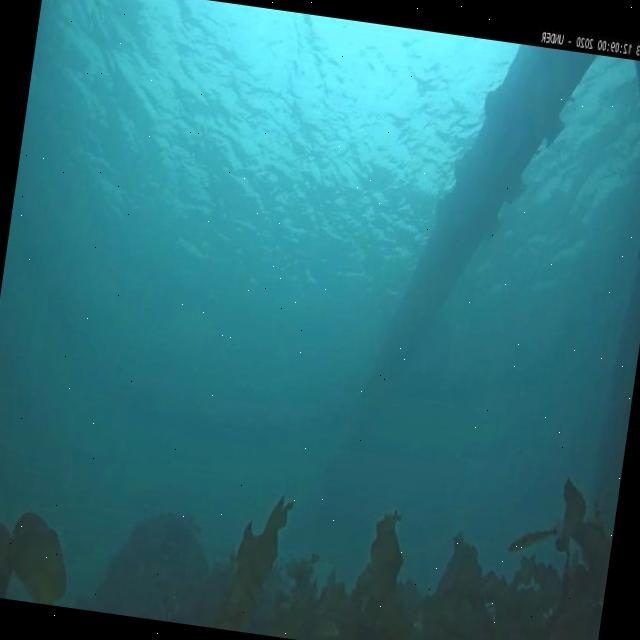fish: (506, 518, 560, 562)
